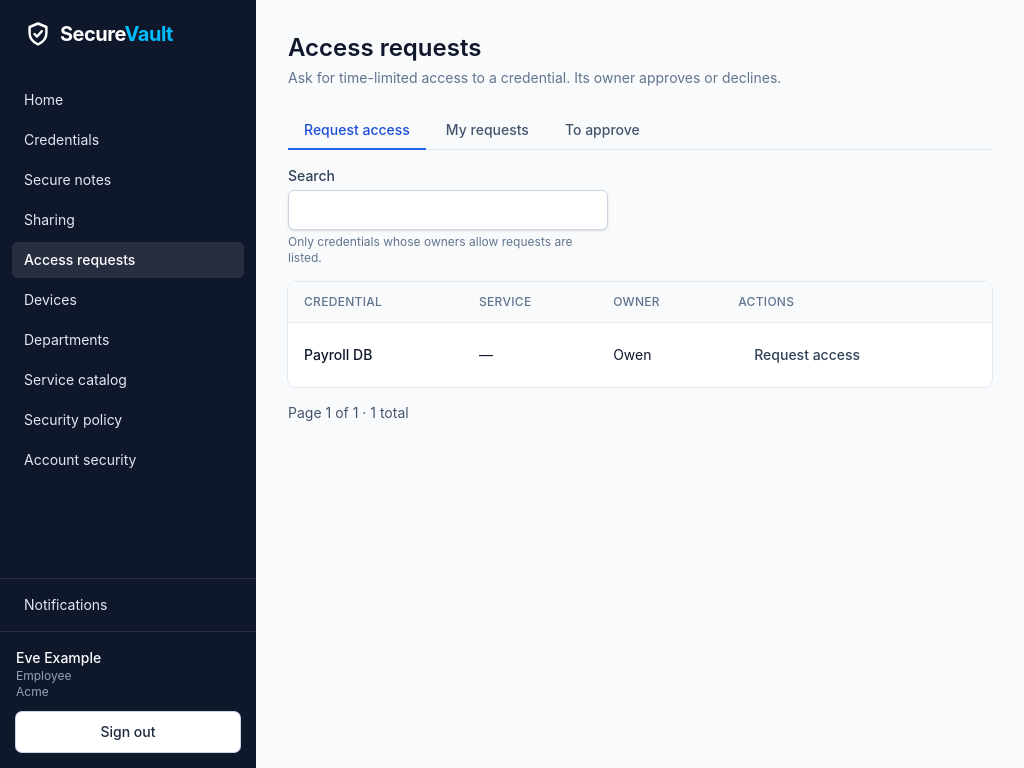
Test: access requests › requests access with validation, then the owner approves
Click the button with aria-label "Request access to Payroll DB" at {"x": 807, "y": 355}, box [738,335,876,375]
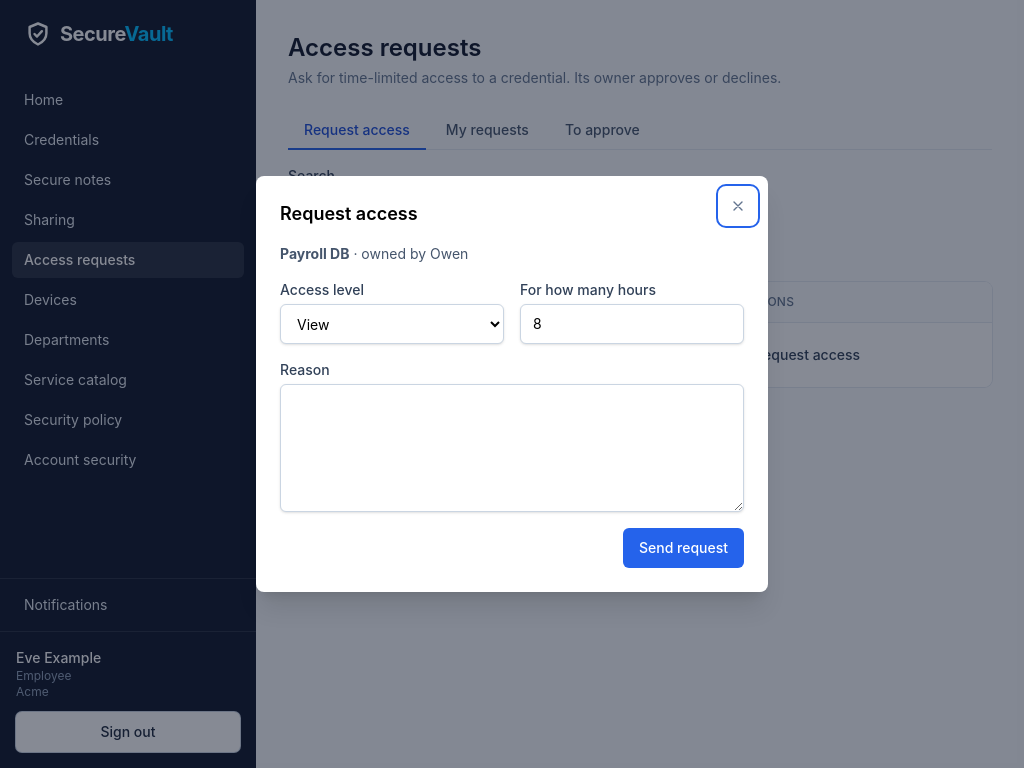
Click the button "Send request" at {"x": 683, "y": 548}, box [623,528,744,568]
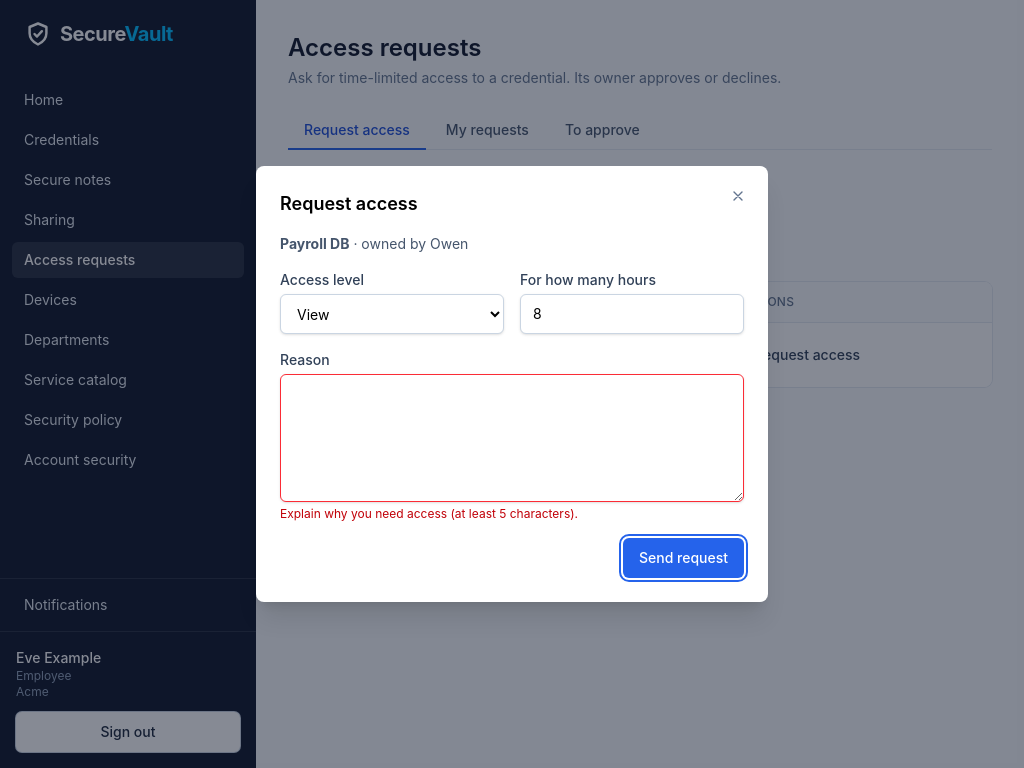
Result: the text "Explain why you need access (at least 5 characters)." is shown at [280,506,578,521]
Type "Month-end payroll run" into the text box labelled "Reason" at {"x": 512, "y": 438}, box [280,374,744,502]
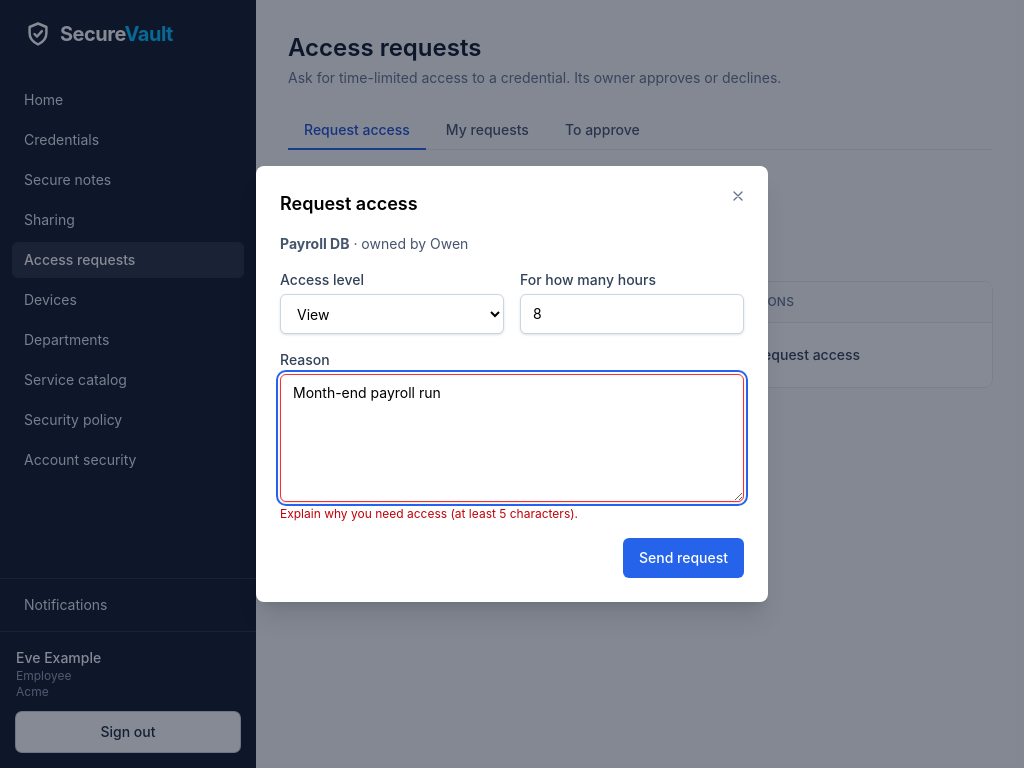
Click the button "Send request" at {"x": 683, "y": 558}, box [623,538,744,578]
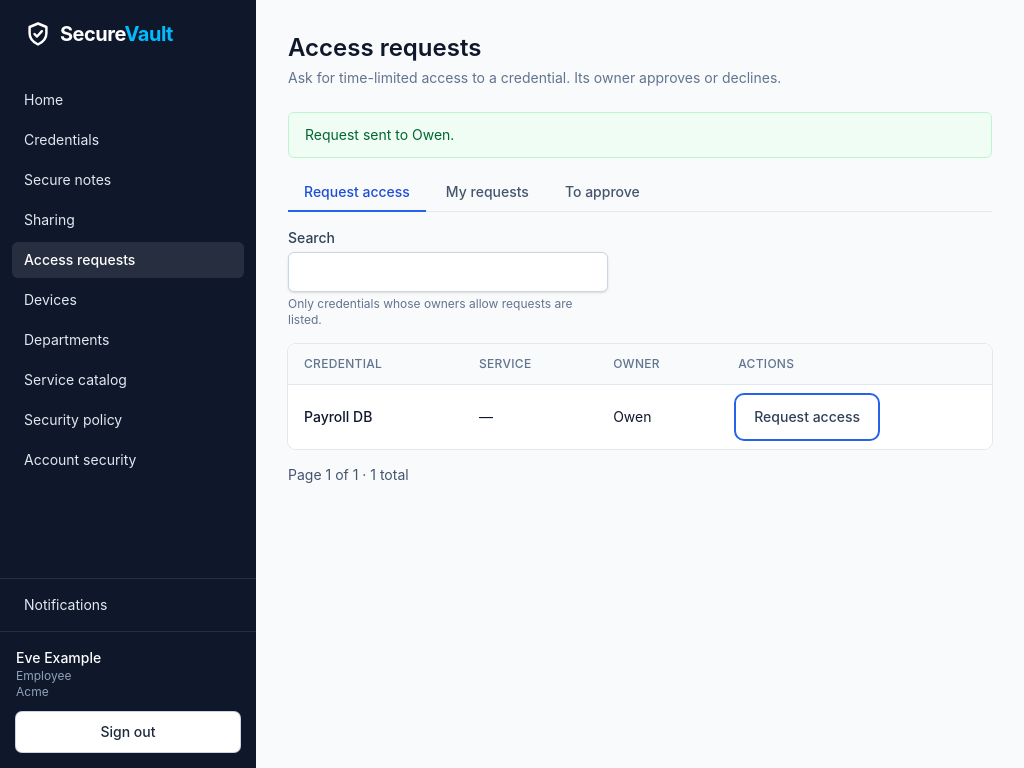
Result: the text "Request sent to Owen." is shown at [288,112,992,158]
